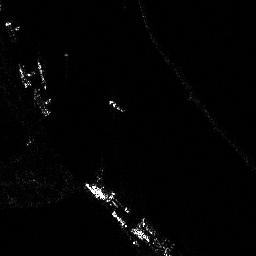ship: (36, 62, 48, 91), (109, 98, 125, 113)
